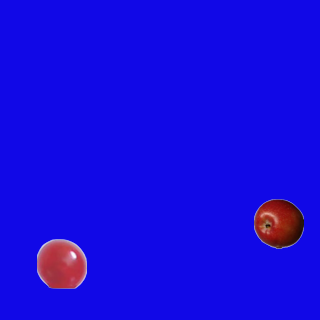Apple Braeburn: (253, 198, 303, 248)
Redcurrant: (36, 238, 86, 288)
